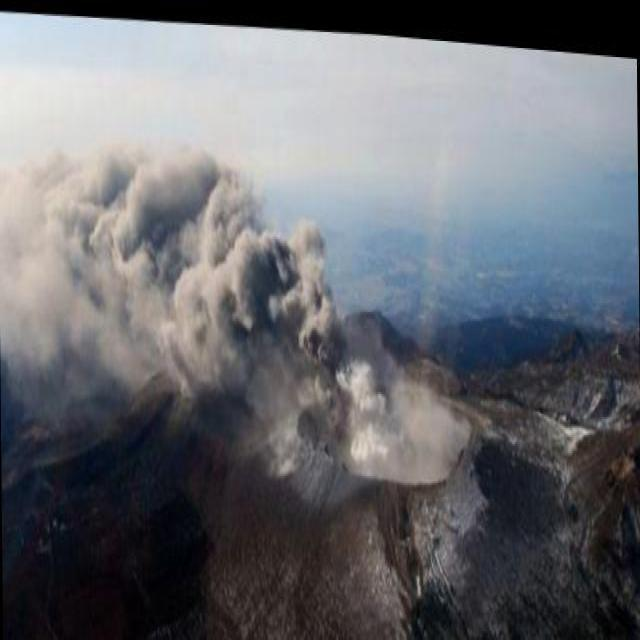smoke: (8, 149, 182, 351), (190, 231, 265, 379), (276, 229, 320, 322), (191, 174, 240, 229), (355, 394, 390, 454)
